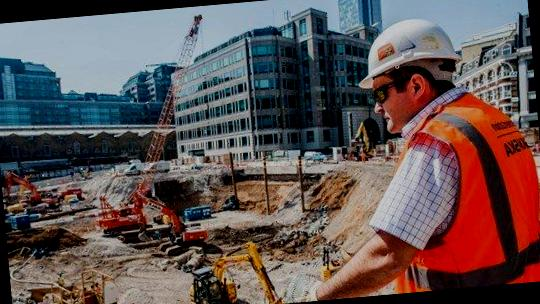helmet: (352, 11, 468, 92)
person: (318, 0, 540, 286)
